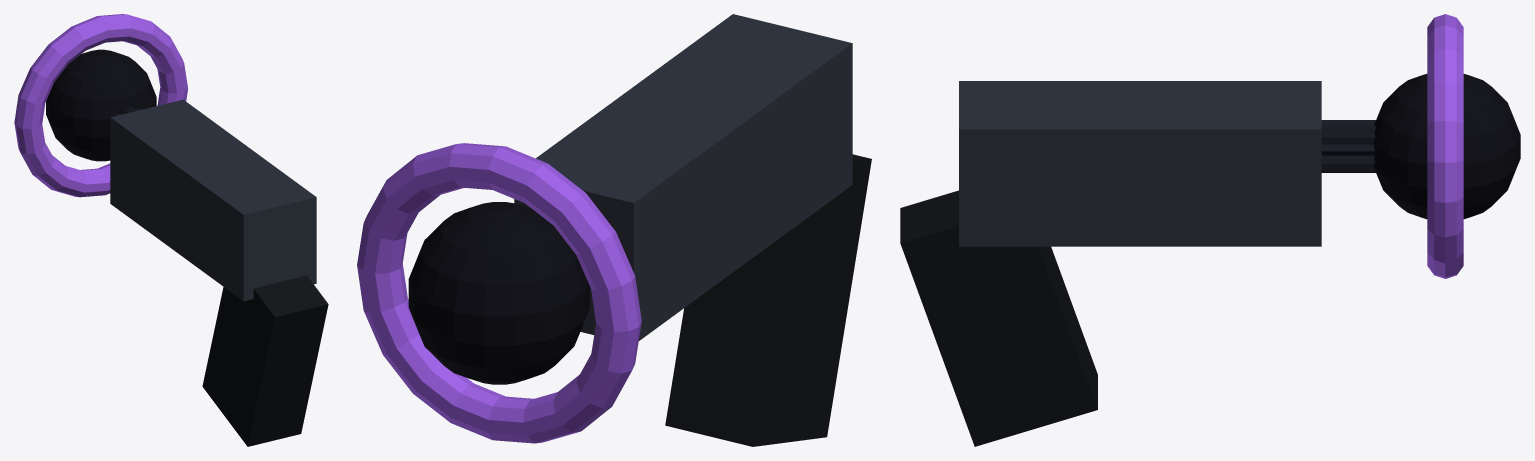
File: voidgun.glb
3 renders of one model, left to right at view 1: azimuth 30°, elevation 25°; view 2: azimuth 150°, elevation 25°; view 3: azimuth 270°, elevation 25°, orthographic. The views are drawn at different scales.
Parts seen in each view (by area): view 1: Cube, Cube.001, Torus, Sphere; view 2: Cube, Torus, Cube.001, Sphere; view 3: Cube, Cube.001, Sphere, Torus, Cube.003, Cube.002, Cube.004.
Boxes of the visible parts, x1,y1,x2,y2 form: Cube: (110,99,316,301); Cube.001: (202,275,328,446); Torus: (14,14,187,197); Sphere: (46,49,156,161); Cube: (514,14,852,340); Torus: (357,143,641,443); Cube.001: (665,154,871,446); Sphere: (408,202,589,384); Cube: (959,81,1321,246); Cube.001: (900,190,1097,446); Sphere: (1373,74,1520,219); Torus: (1427,14,1463,278); Cube.003: (1321,120,1375,172); Cube.002: (1321,134,1375,171); Cube.004: (1321,126,1375,164).
Bounding box in the file's own units: 0.7 × 1.17 × 1.63.
